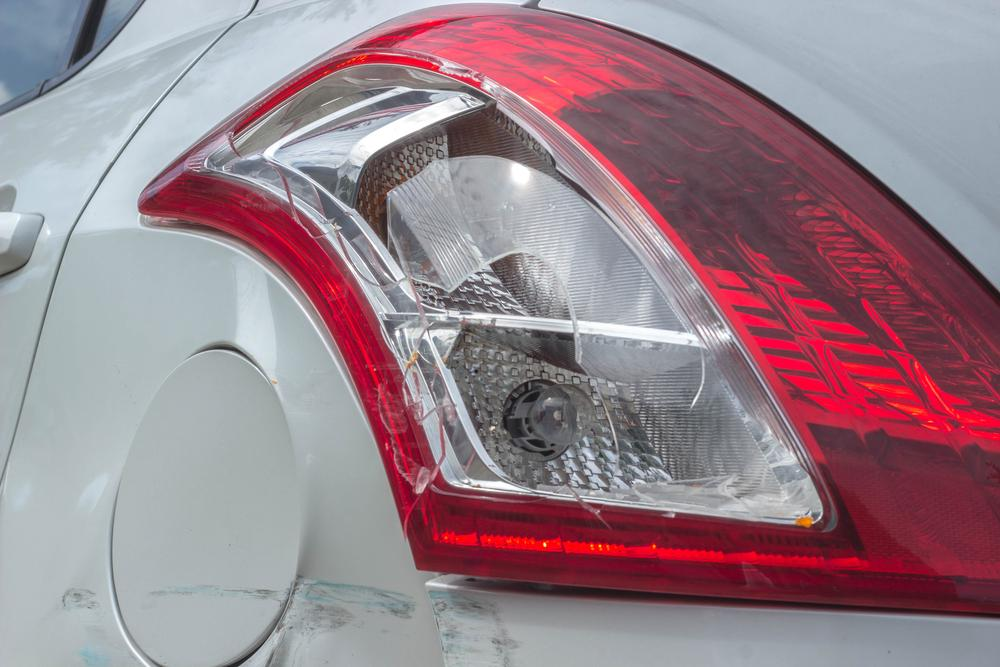lamp broken: (133, 3, 1000, 620)
scratch: (272, 578, 414, 667), (61, 573, 141, 667), (426, 585, 517, 667), (141, 580, 282, 602)
